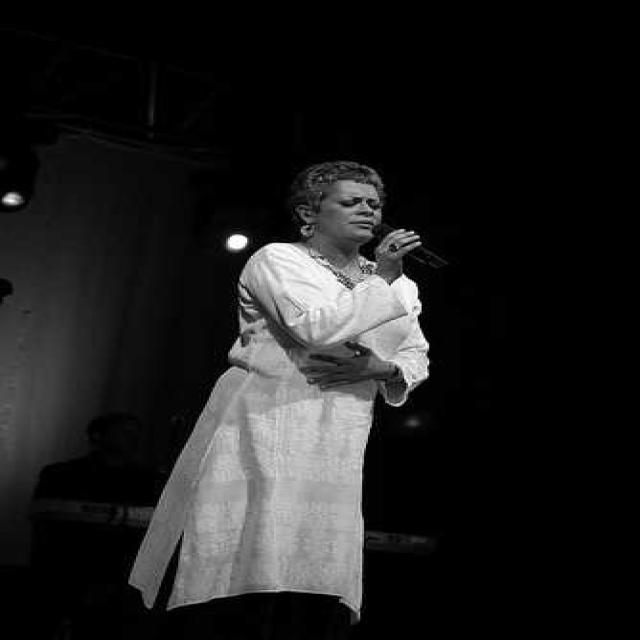microphone: (371, 220, 450, 270)
